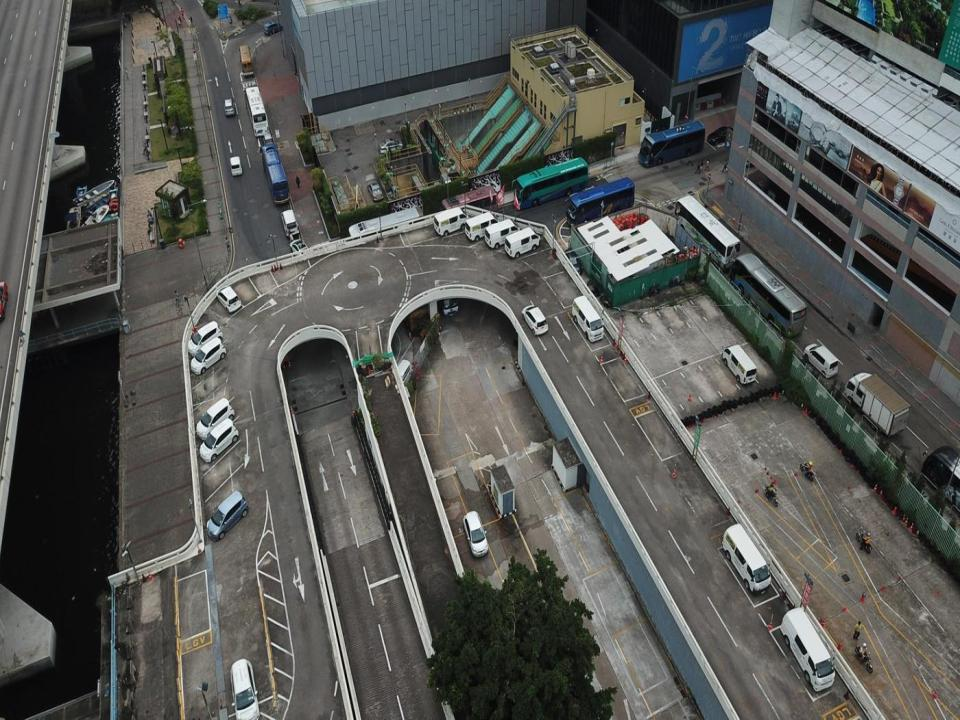bus: (730, 252, 807, 340), (672, 194, 740, 276), (347, 206, 422, 264), (512, 158, 589, 211), (567, 179, 636, 234), (638, 119, 706, 167), (441, 188, 497, 240), (260, 142, 289, 204), (245, 84, 269, 136), (239, 43, 254, 78)
car: (206, 488, 249, 543), (228, 658, 262, 719), (195, 398, 236, 442), (200, 418, 240, 463), (191, 336, 225, 376), (804, 341, 839, 378), (463, 508, 488, 556), (188, 319, 221, 351), (522, 303, 548, 338), (216, 283, 241, 314), (290, 240, 313, 270), (708, 124, 732, 148), (280, 209, 299, 238), (379, 134, 403, 154), (367, 178, 383, 202), (264, 21, 281, 38), (229, 154, 240, 178), (223, 97, 234, 117)
truck: (843, 370, 911, 440)
van: (780, 606, 836, 691), (722, 524, 770, 596), (571, 294, 606, 345), (723, 342, 759, 386), (483, 220, 520, 252), (506, 226, 540, 260), (432, 207, 468, 236), (466, 211, 495, 242)
